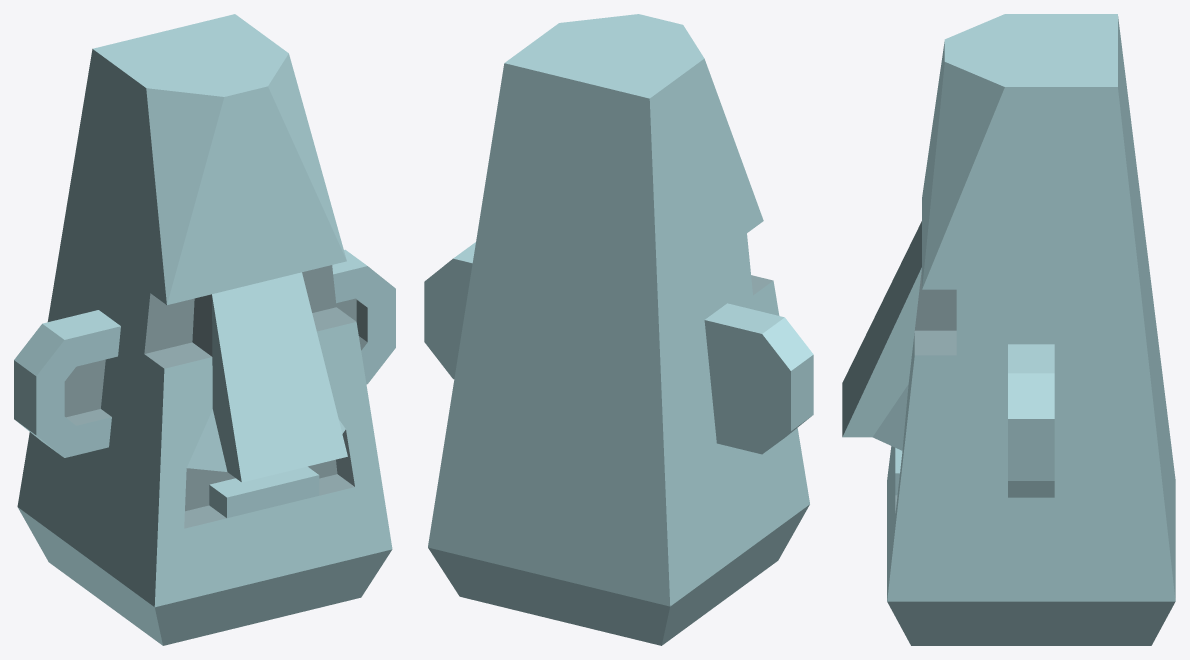
Rendered from statue_head.obj.
3 views of the same model, side by side, from view 1: azimuth 30°, elevation 25°; view 2: azimuth 150°, elevation 25°; view 3: azimuth 270°, elevation 25° (orthographic). The views are drawn at different scales.
Parts seen in each view (by area): view 1: statue_head; view 2: statue_head; view 3: statue_head.
Part boxes in pixels (x1=…): statue_head: x1=14, y1=14, x2=395, y2=645; statue_head: x1=424, y1=14, x2=813, y2=645; statue_head: x1=842, y1=14, x2=1175, y2=645.
Bounding box in the file's own units: 0.726 × 1 × 0.5544.
